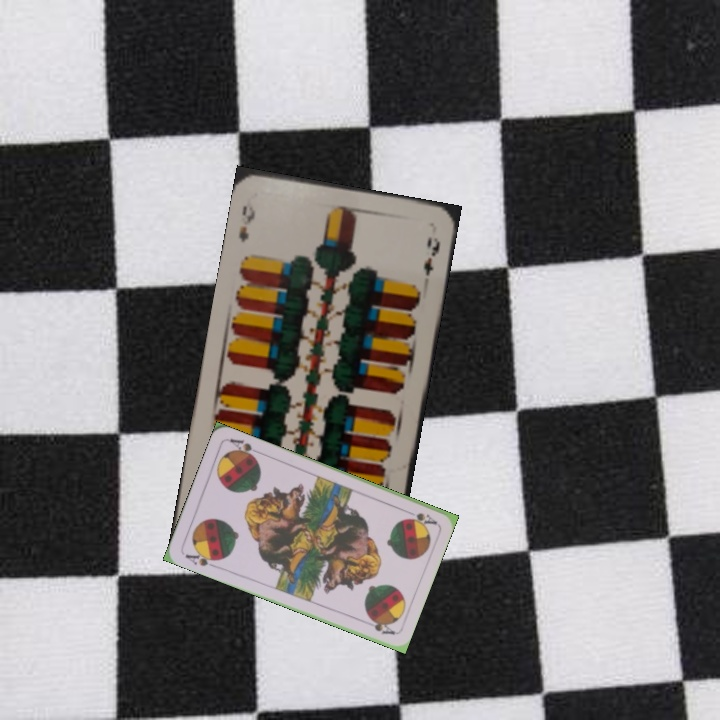E9: (234, 194, 258, 244)
SA: (181, 546, 222, 571), (400, 505, 439, 527)
